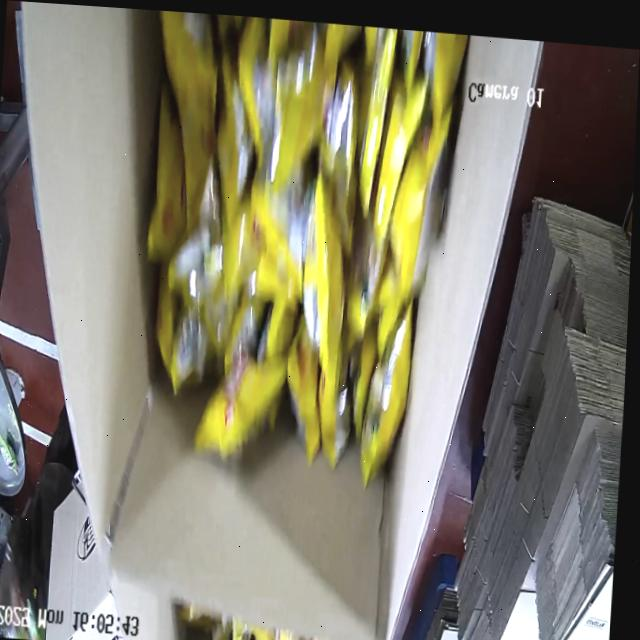SALTED: (134, 10, 472, 483), (183, 617, 343, 640)
